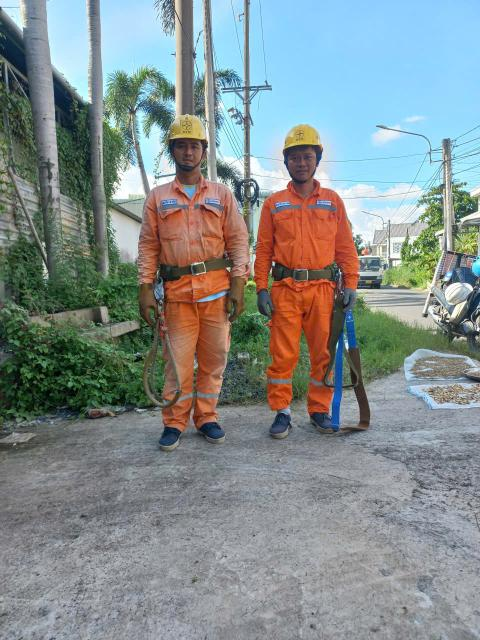gloves: (131, 286, 171, 334), (218, 273, 250, 322), (249, 289, 282, 322), (336, 286, 359, 312)
harness: (269, 259, 344, 298), (145, 253, 241, 279)
helmet: (276, 117, 324, 162), (167, 109, 209, 151)
shoes: (148, 412, 189, 453), (187, 413, 232, 450), (269, 406, 299, 441), (310, 407, 345, 436)
